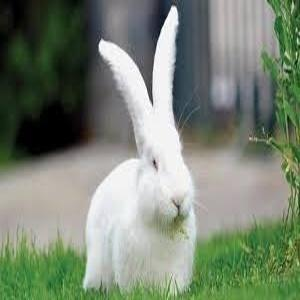rabbit: (85, 6, 196, 293)
